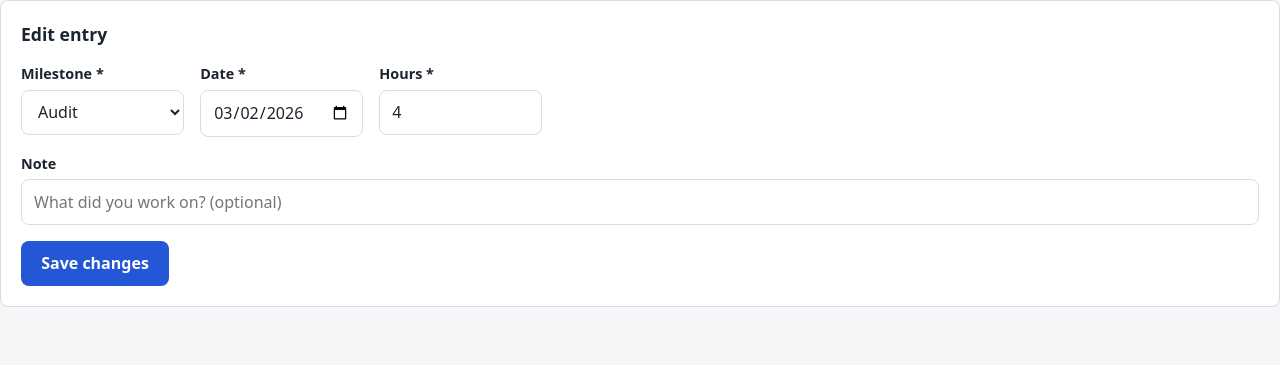
Test: TimeEntryForm submit › shows a non-field error in the banner
The image size is (1280, 365).
Click the button "Save changes". click: (95,263)
box: [21, 241, 169, 286]
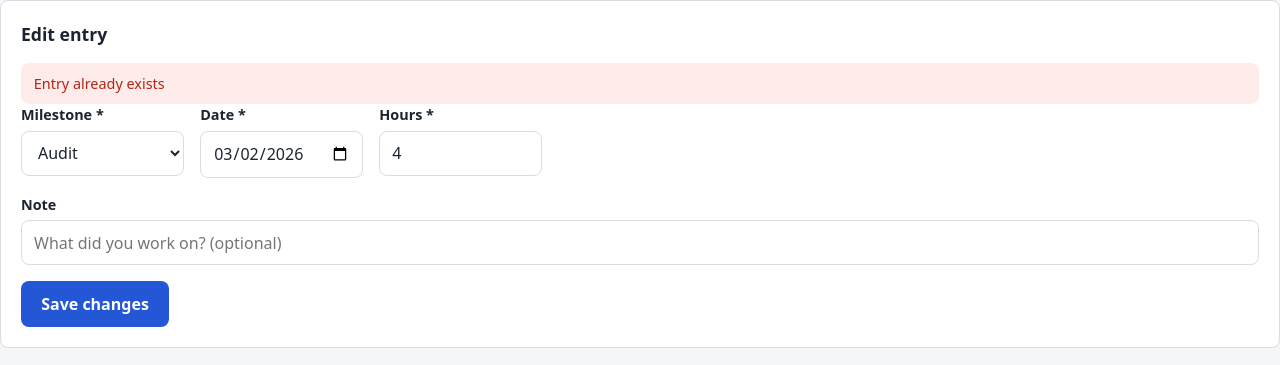
Expected: the message reads "Entry already exists", [34, 74, 165, 93]
